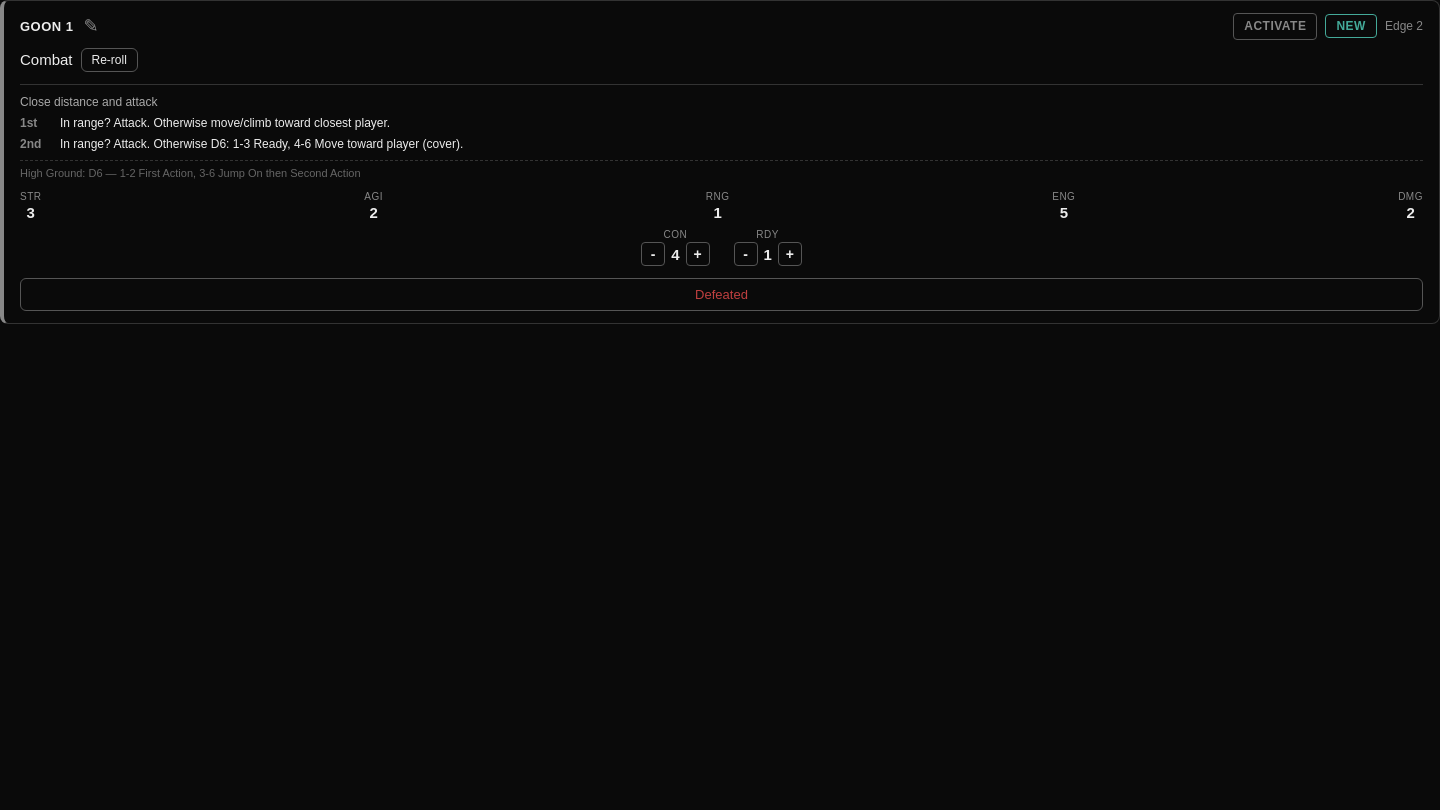
Test: EnemyCard › rename modal › opens rename modal when edit button is clicked
Click the button named "Rename" at [91, 26], box [80, 15, 103, 37]
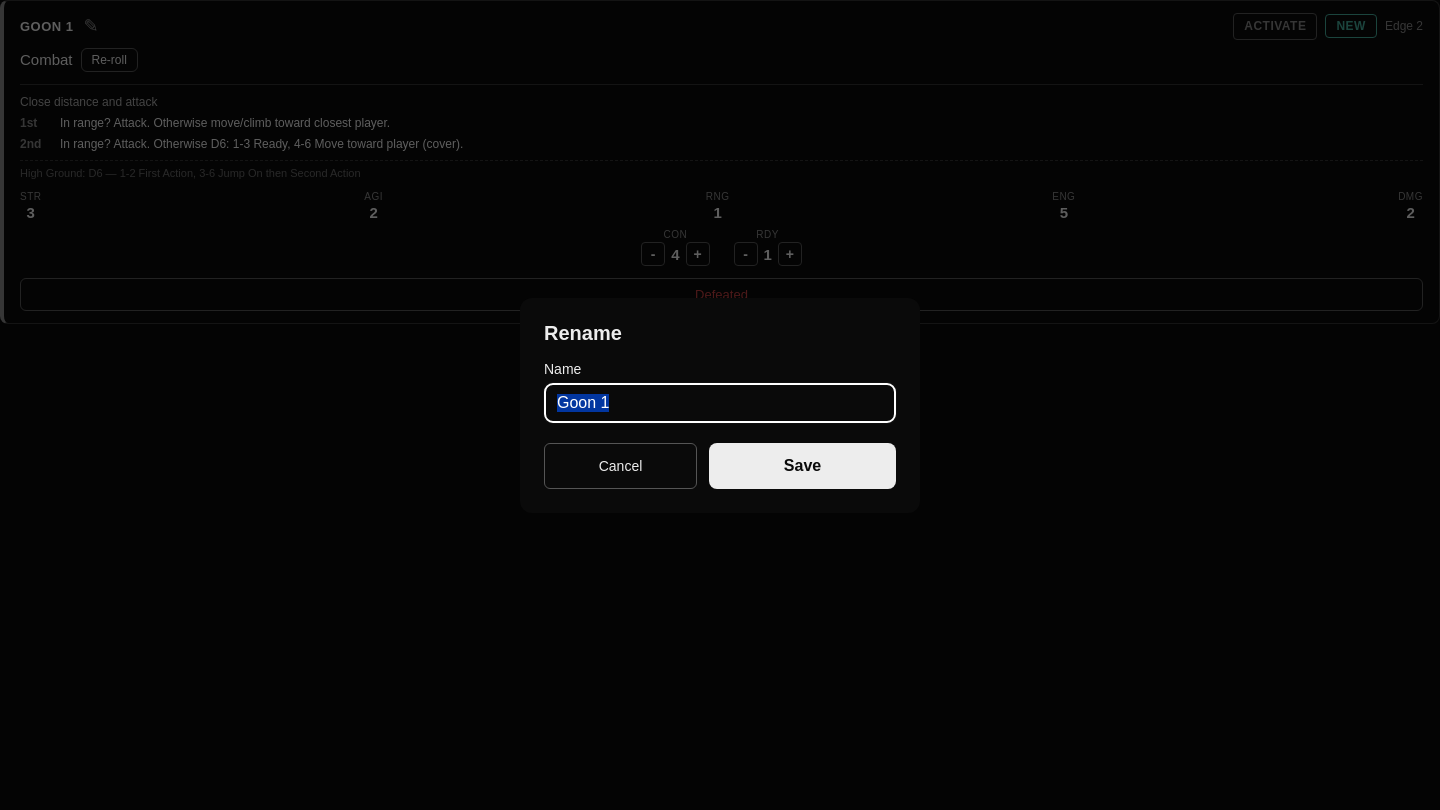
Expected: the heading "Rename" is shown, [544, 322, 622, 344]
